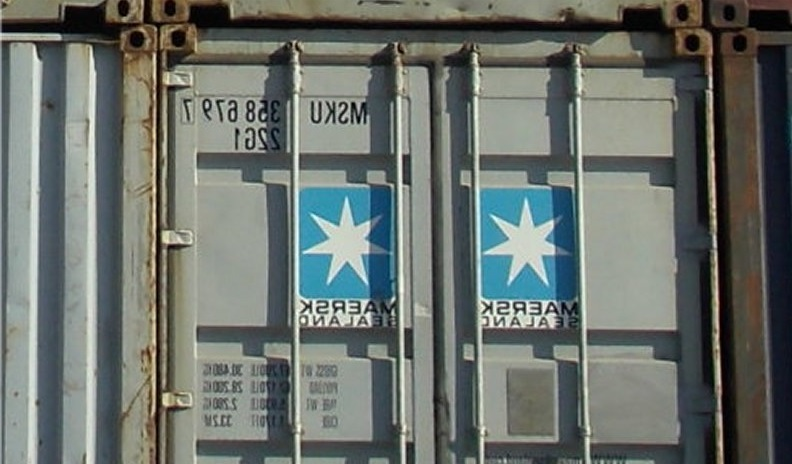container_door: (159, 25, 724, 463)
container_no_door: (4, 27, 152, 464)
